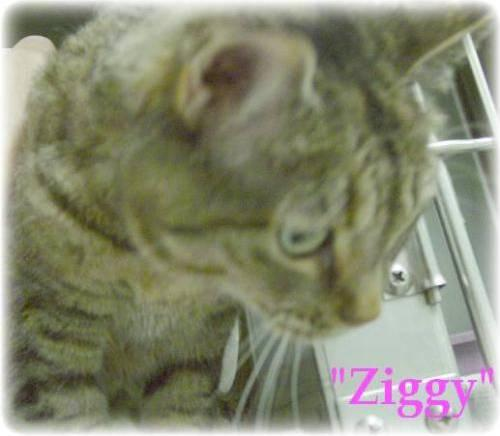cat: (9, 7, 481, 425)
